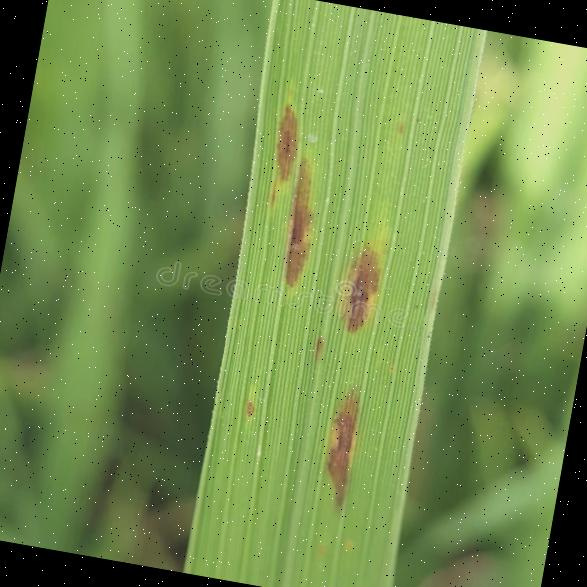Brown_Spot: (308, 371, 385, 523), (324, 226, 402, 344), (268, 150, 331, 295), (262, 95, 318, 194), (232, 376, 272, 429)
